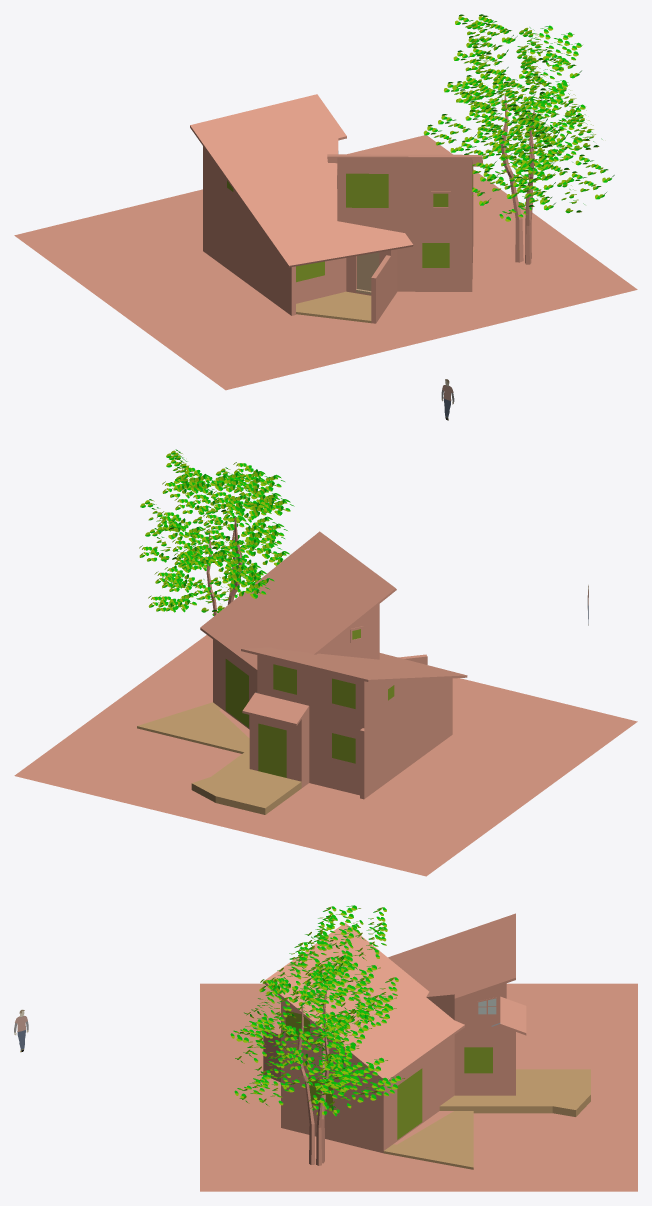
Rendered from test_color.glb.
3 renders of one model, top to bottom at view 1: azimuth 30°, elevation 25°; view 2: azimuth 150°, elevation 25°; view 3: azimuth 270°, elevation 25°, orthographic. The views are drawn at different scales.
Size of the model in its own units: 782 by 407 by 948.
